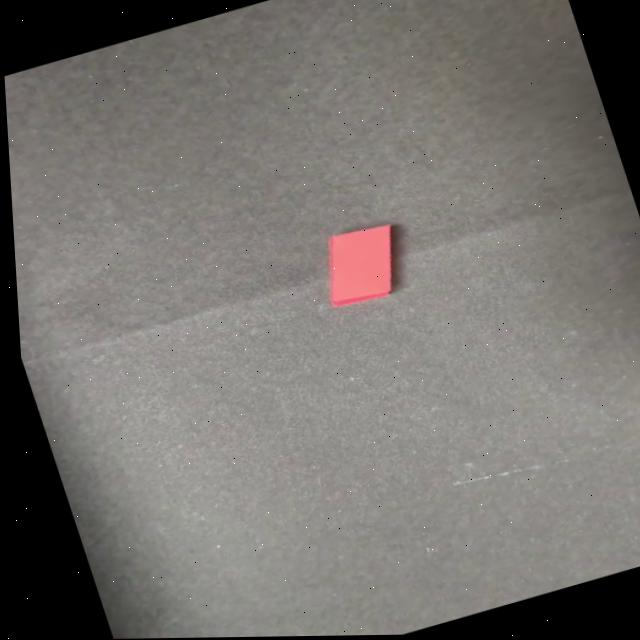red block: (307, 216, 415, 311)
